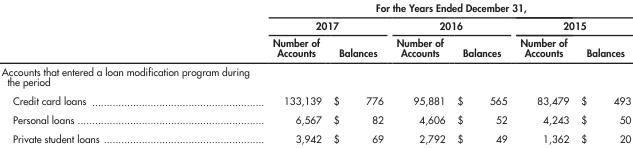table: (0, 0, 630, 144)
table column: (0, 0, 185, 144), (185, 0, 326, 144), (326, 0, 389, 144), (450, 0, 512, 144), (512, 0, 574, 144), (389, 0, 450, 144), (574, 0, 630, 144)
table column header: (0, 0, 630, 62)
table projected row header: (0, 62, 630, 91)
table row: (0, 33, 630, 62), (0, 62, 630, 91), (0, 91, 630, 110), (0, 15, 630, 33), (0, 110, 630, 128), (0, 128, 630, 144), (0, 0, 630, 15)
table spanning cell: (185, 0, 630, 15), (185, 15, 389, 33), (389, 15, 512, 33), (512, 15, 630, 33)
